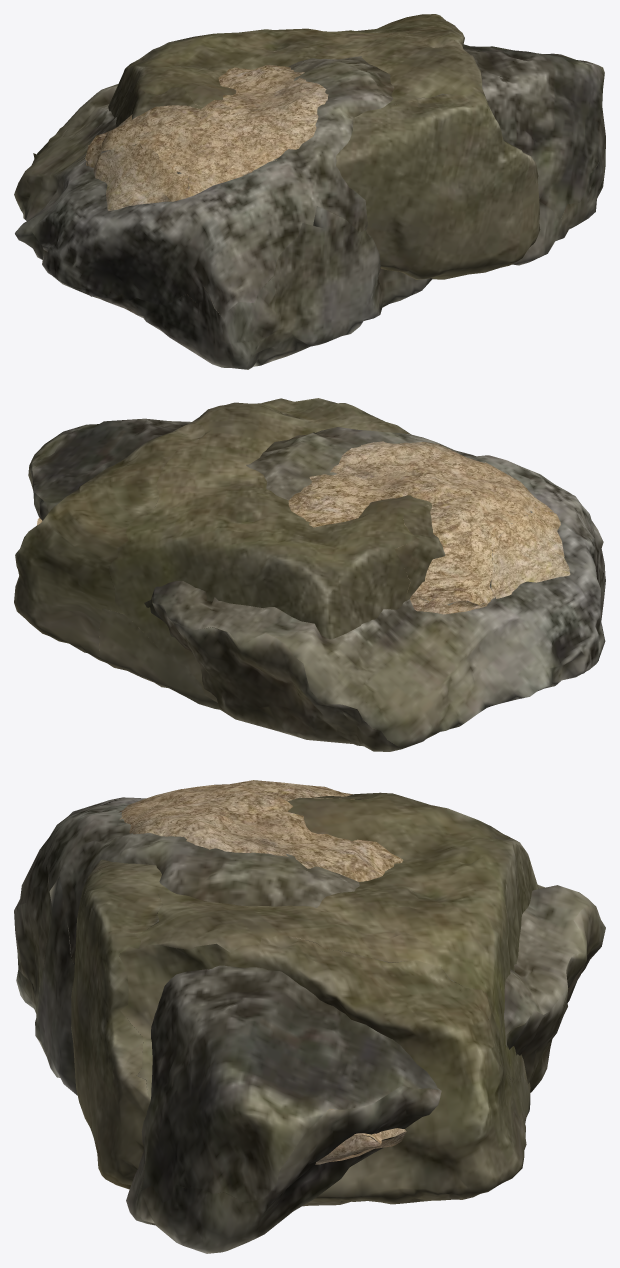
File: boulder.glb
3 renders of one model, top to bottom at view 1: azimuth 30°, elevation 25°; view 2: azimuth 150°, elevation 25°; view 3: azimuth 270°, elevation 25°, orthographic. The views are drawn at different scales.
Parts seen in each view (by area): view 1: v1_lod0, v0_lod0, v2_lod0; view 2: v0_lod0, v1_lod0, v2_lod0; view 3: v0_lod0, v1_lod0, v2_lod0.
Boxes of the visible parts, bbox=[...] form: v1_lod0: bbox=[14, 44, 605, 369]; v0_lod0: bbox=[108, 14, 540, 284]; v2_lod0: bbox=[85, 65, 328, 300]; v0_lod0: bbox=[14, 398, 445, 714]; v1_lod0: bbox=[28, 418, 605, 751]; v2_lod0: bbox=[37, 441, 570, 614]; v0_lod0: bbox=[71, 792, 538, 1206]; v1_lod0: bbox=[14, 797, 605, 1253]; v2_lod0: bbox=[119, 780, 406, 1164].
Size of what is drawn, in the model's own units: 2.87 by 1 by 2.02.
Materials: 2 (2 with a texture image).
